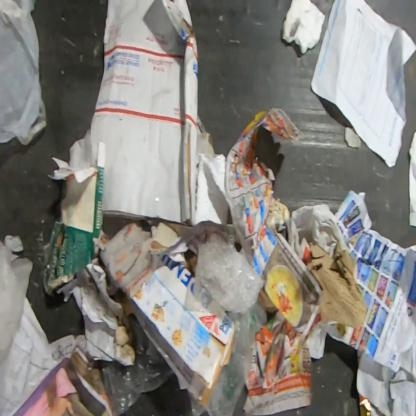cardboard: (89, 0, 199, 228), (114, 254, 236, 410), (40, 130, 108, 297), (305, 240, 367, 329)
soft_plastic: (98, 311, 176, 416), (206, 302, 269, 415), (0, 0, 47, 147), (193, 233, 267, 319), (359, 393, 375, 416)
